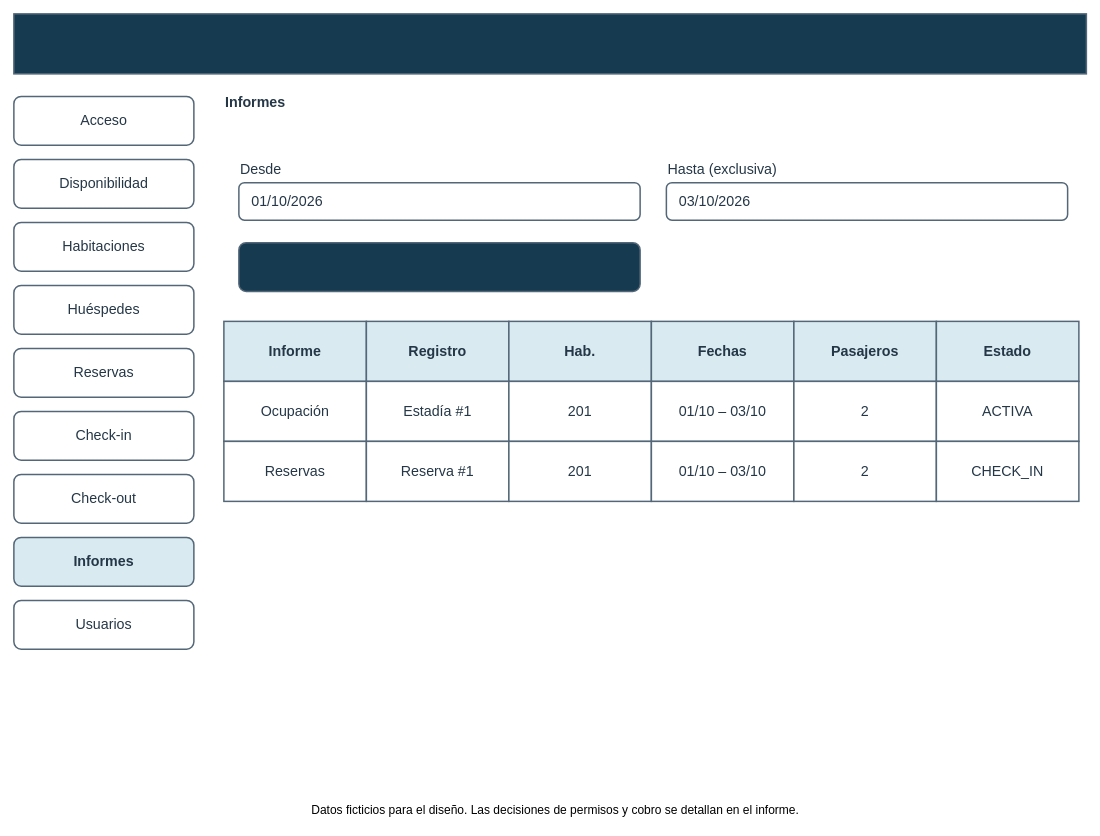
The diagram is 1100 pixels wide and 836 high, and some of its shapes have lost their labels. The centre of each missing label's shape, as x and y in pixels:
"Generar informes" goes at (x=439, y=267).
"Hotel Duerme Bien · Sistema de pasajeros" goes at (x=550, y=43).
